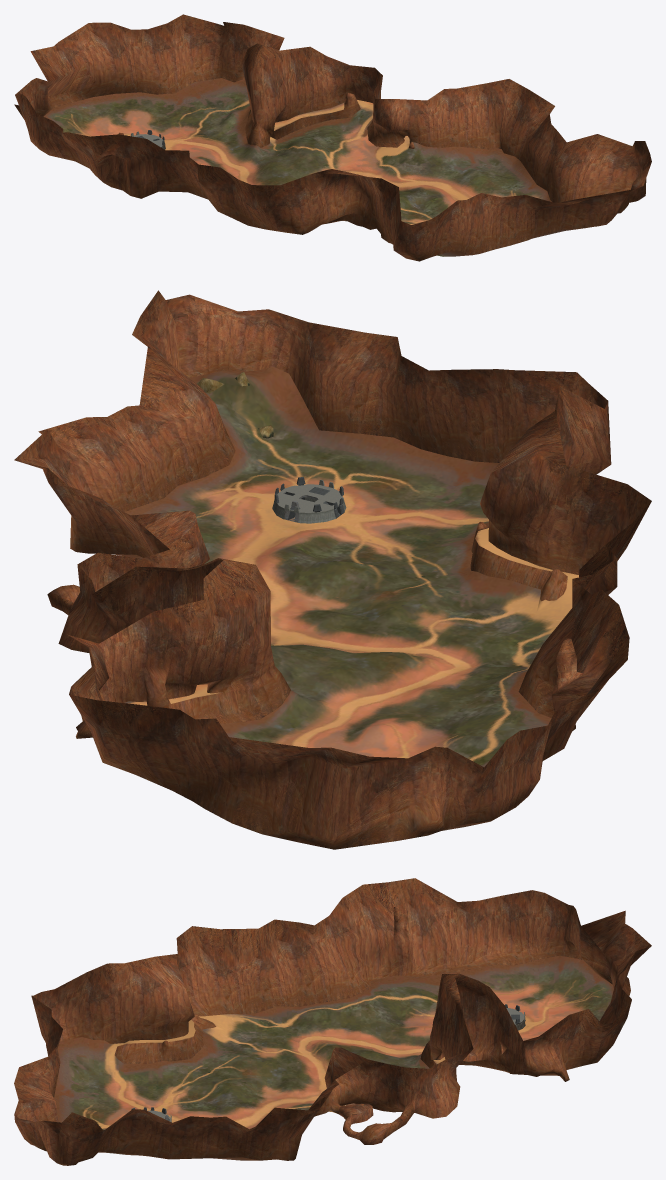
File: map1.glb
3 renders of one model, top to bottom at view 1: azimuth 30°, elevation 25°; view 2: azimuth 150°, elevation 25°; view 3: azimuth 270°, elevation 25°, orthographic. The views are drawn at different scales.
Visible parts, largest first — view 1: Object_6, Object_3; view 2: Object_6, Object_3, Object_14, Object_13; view 3: Object_6, Object_3.
Boxes of the visible parts, x1,y1,x2,y2 form: Object_6: [14, 14, 651, 261]; Object_3: [43, 78, 610, 256]; Object_6: [14, 290, 651, 849]; Object_3: [114, 366, 578, 830]; Object_14: [277, 484, 343, 512]; Object_13: [272, 479, 346, 523]; Object_6: [14, 878, 651, 1165]; Object_3: [25, 955, 613, 1160].
Size of what is drawn, in the model's own units: 384 by 81.02 by 442.
Materials: 12 (12 with a texture image).
